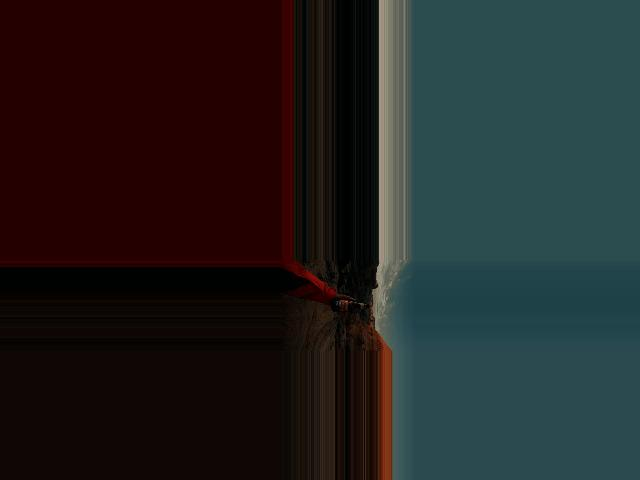beer: (332, 299, 369, 312)
